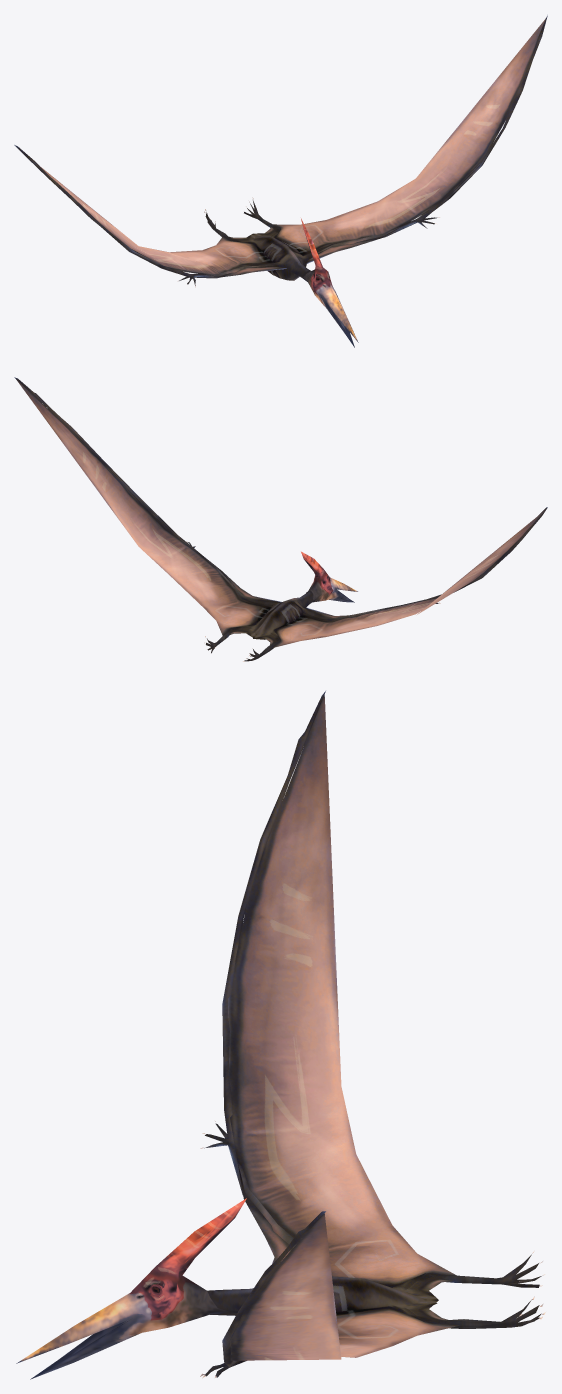
Rendered from dino3.glb.
The picture shows the model from 3 angles, top to bottom: view 1: azimuth 30°, elevation 25°; view 2: azimuth 150°, elevation 25°; view 3: azimuth 270°, elevation 25°; orthographic projection. The views are drawn at different scales.
Parts seen in each view (by area): view 1: bodyPte; view 2: bodyPte; view 3: bodyPte.
Part boxes in pixels (bbox=[...]): bodyPte: bbox=[14, 15, 547, 347]; bodyPte: bbox=[14, 377, 547, 661]; bodyPte: bbox=[16, 691, 545, 1379].
Bounding box in the file's own units: 8.31 × 3.19 × 3.58.
Materials: 1 (1 with a texture image).
